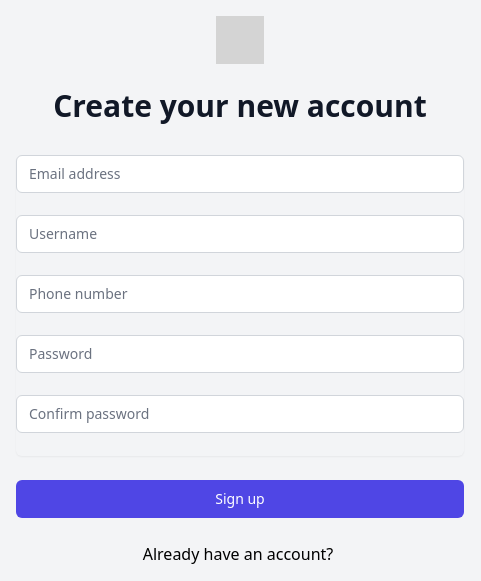
Test case: Sign up functionality › Invalid fields › Render passwords don't match error message
Type "tory123" into the password field named "password1" at [240, 354], box [16,335,464,373]
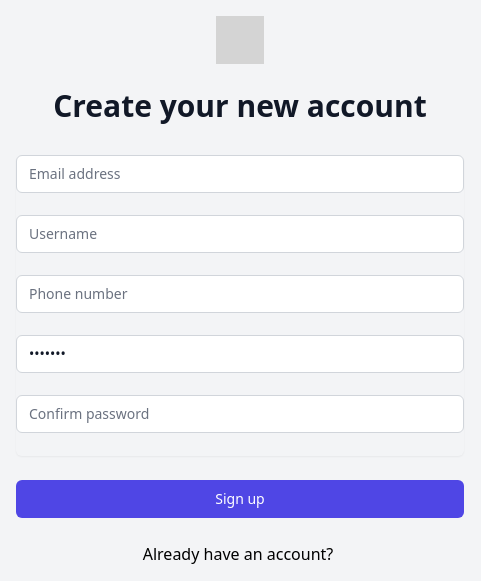
Type "tory124" into the password field named "password2" at [240, 414], box [16,395,464,433]
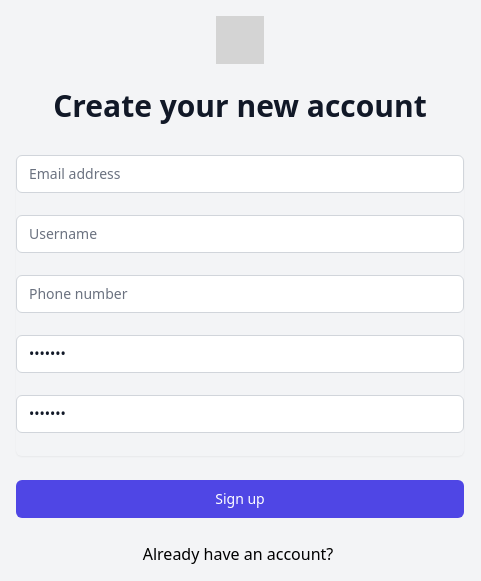
Click the button "Sign up" at [240, 499], box [16,480,464,518]
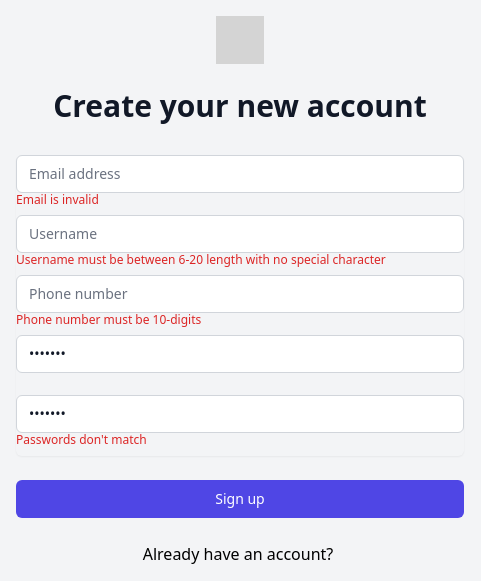
Expected: the text "Passwords don't match" is shown, [16,431,147,448]
